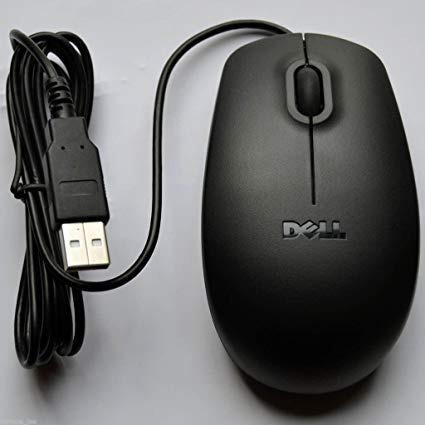mouse: (179, 24, 422, 407)
